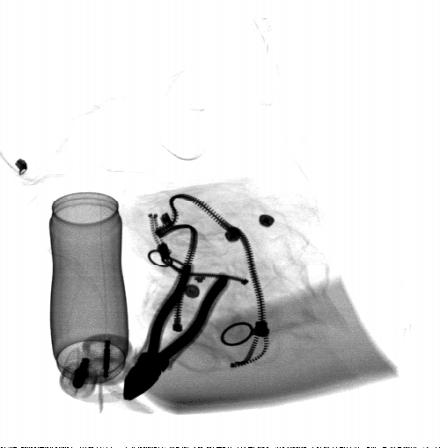Pliers: (122, 261, 232, 402)
